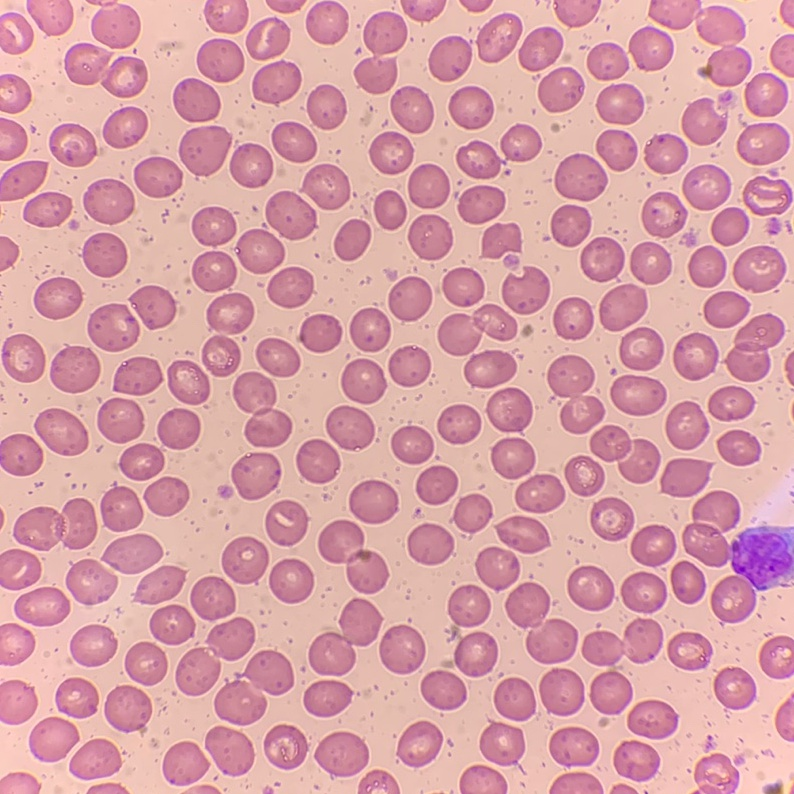RBC: (683, 491, 793, 622), (176, 618, 254, 695), (309, 599, 380, 675), (319, 520, 387, 593), (65, 43, 146, 97), (697, 6, 751, 86), (233, 372, 291, 446), (548, 355, 603, 433), (14, 498, 96, 550), (438, 304, 516, 355), (590, 426, 659, 482), (727, 314, 784, 381), (582, 619, 662, 665), (179, 126, 231, 175), (733, 246, 785, 292), (35, 409, 87, 455), (266, 191, 315, 239), (88, 304, 138, 351), (555, 154, 606, 200), (315, 732, 368, 776), (91, 0, 139, 48), (205, 727, 253, 775), (50, 346, 99, 392), (66, 559, 116, 604), (83, 179, 134, 223), (526, 619, 577, 663), (104, 534, 161, 573), (232, 453, 280, 499), (451, 628, 497, 676), (502, 267, 549, 313), (611, 375, 665, 415), (29, 717, 78, 761), (215, 681, 265, 724), (737, 123, 789, 164), (600, 284, 646, 330), (222, 537, 268, 583), (104, 686, 151, 731), (477, 14, 521, 62), (236, 229, 284, 273), (380, 625, 424, 673), (303, 164, 349, 209), (683, 165, 730, 209), (246, 650, 293, 694), (326, 406, 374, 449), (349, 480, 397, 523), (15, 587, 69, 625), (673, 333, 717, 379), (540, 668, 583, 715), (252, 61, 300, 103), (70, 739, 120, 779), (538, 67, 583, 111), (682, 99, 726, 144), (642, 192, 686, 237), (97, 398, 142, 442), (568, 566, 613, 610), (397, 721, 441, 766), (197, 39, 243, 82), (173, 78, 219, 121), (49, 124, 96, 166), (2, 334, 44, 381), (666, 402, 708, 449), (163, 742, 208, 785), (391, 86, 433, 132), (497, 516, 549, 553), (743, 176, 792, 215), (409, 215, 452, 259), (82, 233, 126, 276), (581, 237, 624, 281), (342, 359, 385, 403), (487, 388, 531, 431), (296, 439, 339, 483), (269, 559, 313, 602), (480, 722, 524, 765), (429, 36, 471, 81), (464, 350, 515, 387), (70, 625, 116, 666), (134, 157, 181, 197), (34, 278, 81, 318), (515, 474, 564, 512), (628, 700, 677, 738), (135, 566, 185, 603), (519, 27, 562, 70), (629, 27, 672, 70), (449, 86, 492, 129), (620, 327, 663, 370), (506, 583, 549, 626), (264, 725, 307, 768), (230, 143, 272, 187), (389, 277, 431, 321), (131, 286, 175, 328), (191, 577, 235, 619), (101, 486, 142, 531), (266, 500, 307, 545), (591, 669, 632, 714), (597, 84, 643, 124), (207, 293, 253, 333), (661, 458, 709, 496), (550, 727, 598, 765), (745, 73, 787, 116), (476, 547, 519, 589), (408, 164, 449, 208), (168, 360, 209, 404), (268, 267, 313, 307), (408, 524, 453, 564), (621, 572, 666, 612), (614, 741, 659, 781), (0, 161, 46, 200), (364, 12, 406, 54), (591, 498, 633, 540), (306, 1, 347, 44), (246, 18, 289, 59), (125, 642, 166, 685), (272, 122, 316, 162), (631, 525, 675, 565), (421, 670, 466, 709), (114, 357, 161, 394), (370, 132, 412, 173), (630, 242, 671, 284), (0, 434, 42, 475), (494, 678, 535, 720), (103, 107, 146, 147), (350, 308, 390, 351), (491, 438, 534, 478), (150, 605, 194, 644), (448, 585, 489, 626), (193, 251, 235, 291), (459, 186, 504, 223), (304, 680, 350, 716), (24, 192, 71, 227), (714, 668, 755, 708), (645, 134, 687, 173), (307, 85, 345, 128), (192, 207, 235, 245), (256, 338, 299, 376), (145, 477, 188, 515), (704, 291, 749, 327), (26, 0, 72, 35), (596, 130, 636, 170), (553, 298, 593, 338), (0, 549, 40, 589), (551, 205, 590, 246), (389, 347, 430, 386), (158, 409, 199, 448), (56, 678, 97, 717), (438, 405, 480, 443), (457, 141, 500, 178), (668, 632, 711, 669), (0, 680, 36, 724), (202, 335, 240, 376), (416, 466, 457, 504), (391, 426, 433, 463), (120, 444, 163, 480), (695, 754, 738, 790), (708, 386, 753, 420), (443, 268, 483, 306), (300, 314, 341, 351), (565, 456, 603, 495), (587, 43, 628, 79), (689, 246, 725, 287), (718, 430, 760, 465), (501, 124, 540, 161), (334, 220, 370, 260), (355, 58, 396, 93), (649, 0, 700, 28), (671, 561, 704, 603), (760, 636, 793, 678), (454, 494, 491, 531), (712, 207, 748, 245), (0, 624, 34, 664), (205, 0, 247, 32), (460, 765, 506, 793), (0, 13, 32, 53), (482, 224, 520, 257), (555, 0, 600, 26), (374, 191, 405, 228), (0, 74, 30, 112), (0, 118, 26, 160), (550, 772, 602, 793), (358, 770, 399, 793), (771, 34, 793, 76), (401, 0, 444, 20), (776, 699, 793, 741), (0, 237, 18, 269), (14, 773, 38, 793), (267, 0, 303, 12), (89, 783, 125, 793), (462, 0, 490, 11), (781, 0, 793, 25), (767, 218, 781, 234), (785, 354, 793, 381), (719, 92, 734, 105), (764, 783, 782, 793), (612, 785, 634, 793), (682, 233, 696, 245), (197, 785, 217, 793), (505, 255, 518, 267), (219, 486, 231, 497), (705, 787, 720, 793), (263, 789, 272, 793)
